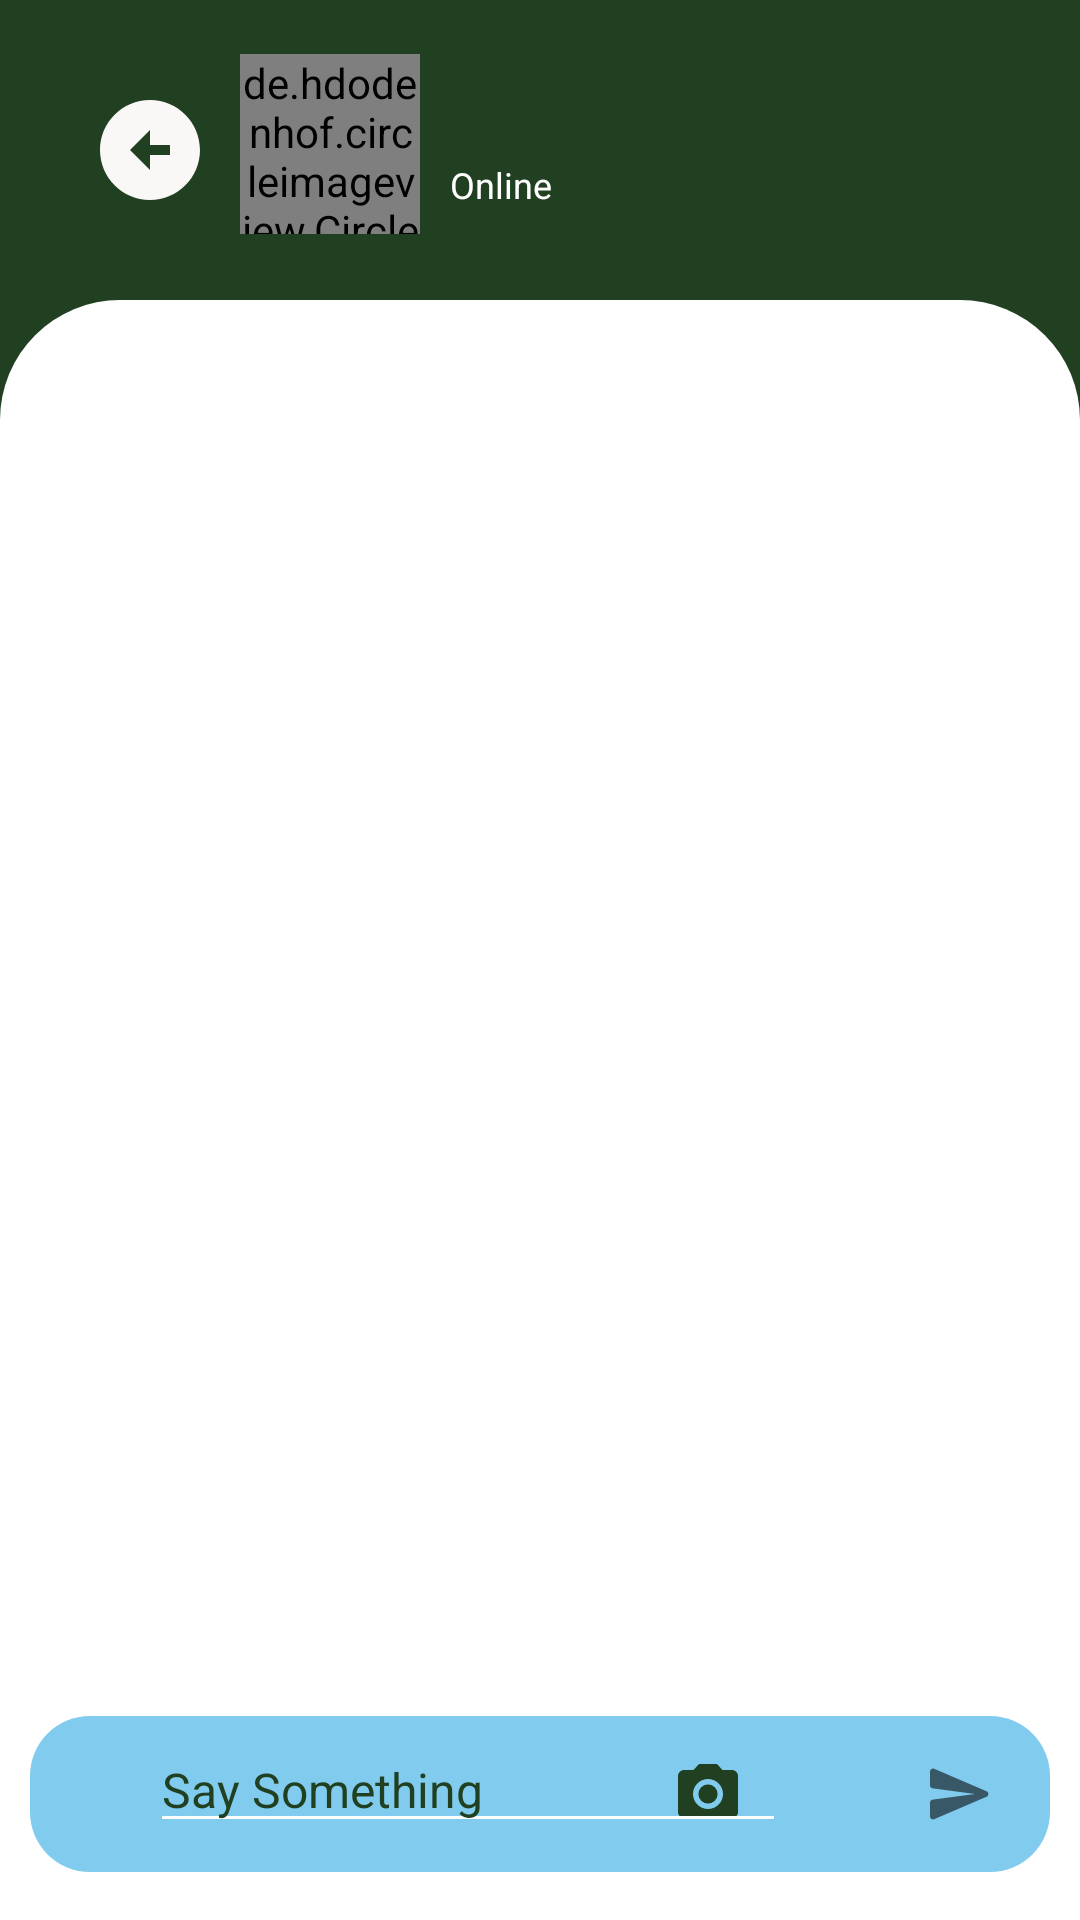

Named icons in this screenshot (1080px x 1920px) and their bounding boxes, {"x1": x1, "y1": y1, "x2": x2, "y2": y2}:
back: {"x1": 100, "y1": 100, "x2": 200, "y2": 200}
camera: {"x1": 648, "y1": 1764, "x2": 768, "y2": 1819}
send: {"x1": 930, "y1": 1768, "x2": 989, "y2": 1820}
